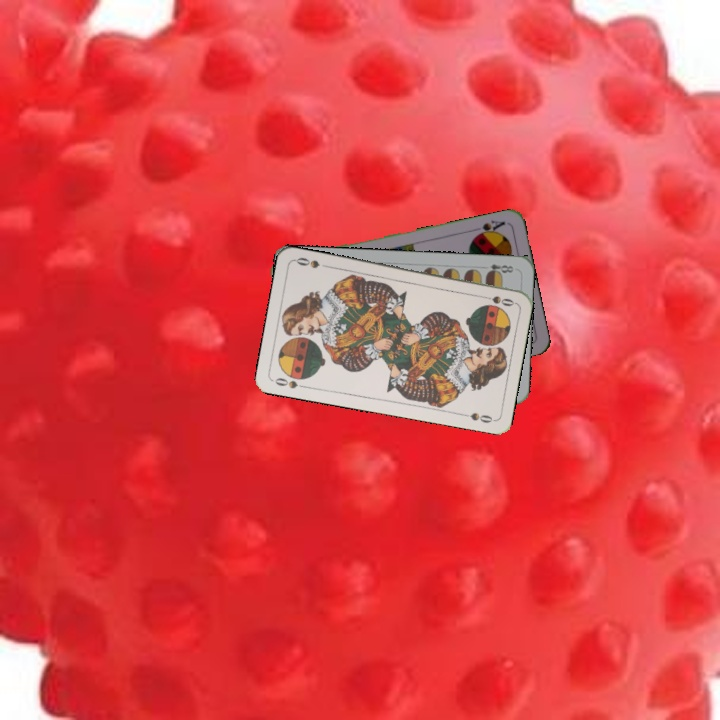E8: (478, 260, 516, 278)
SA: (470, 216, 508, 240)
SO: (476, 291, 517, 309), (271, 374, 310, 391)
